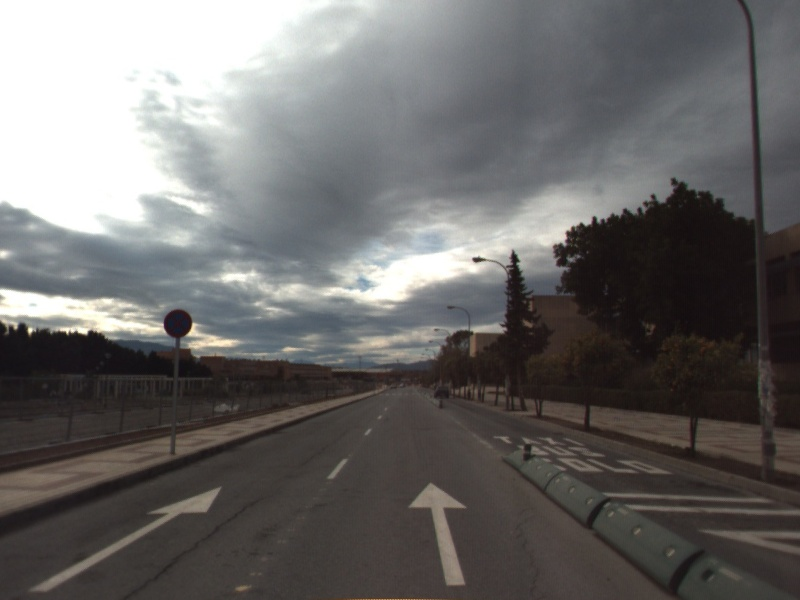STRAIGHT: (25, 484, 224, 594), (406, 480, 469, 588)
